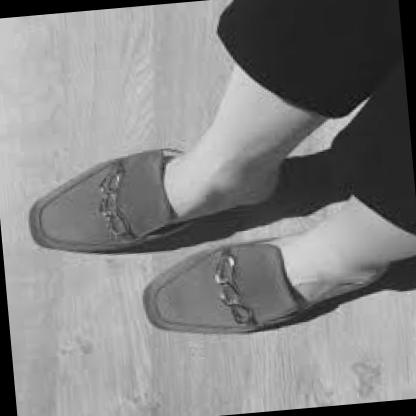ankle: (234, 184, 240, 189)
heel: (259, 200, 262, 205), (388, 269, 390, 272)
left_foot: (146, 219, 406, 339)
pinky: (197, 323, 204, 330), (60, 185, 64, 189)
right_foot: (17, 138, 286, 254)
toe: (159, 280, 166, 287), (51, 240, 56, 243)
